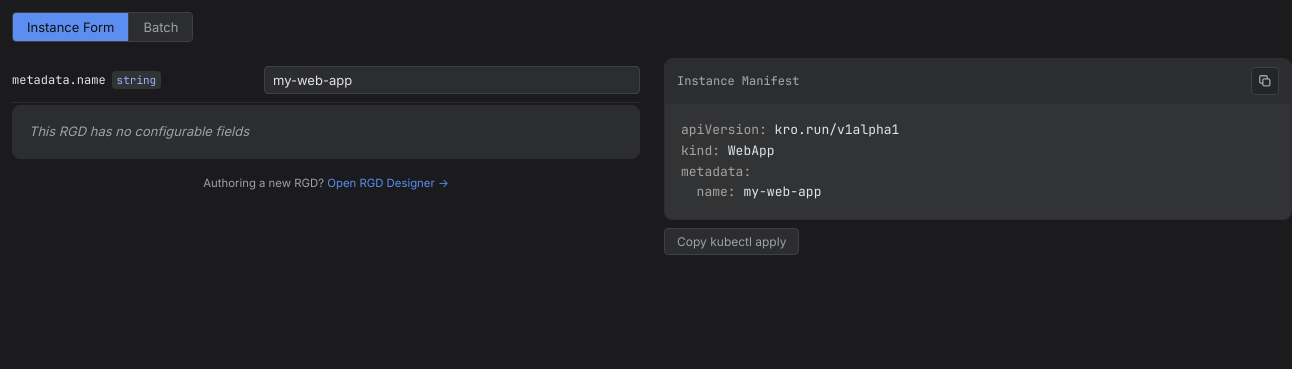
GenerateTab — batch mode › switches to batch mode on Batch button click
Click the button with test id "mode-btn-batch".
click(161, 27)  # box [129, 13, 192, 41]
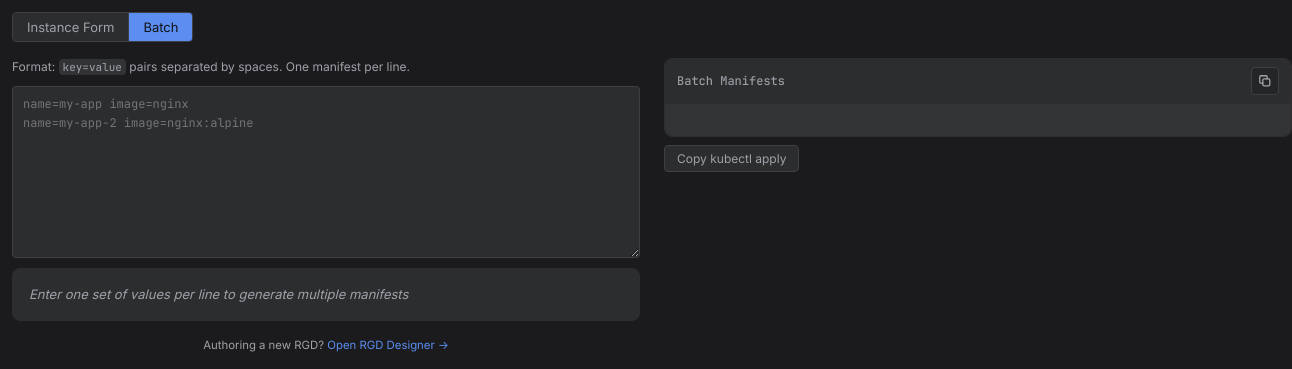
Now the element with test id "batch-form" is shown, box [12, 58, 640, 321]
